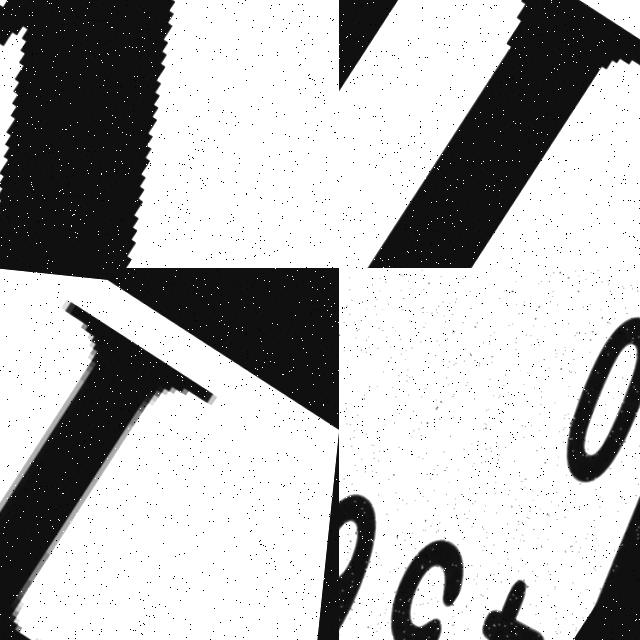0: (493, 268, 640, 534)
4: (408, 531, 610, 640)
5: (339, 483, 533, 640)
6: (339, 446, 445, 640)
I: (0, 268, 238, 640)
N: (339, 0, 640, 268)
V: (0, 0, 339, 268)
